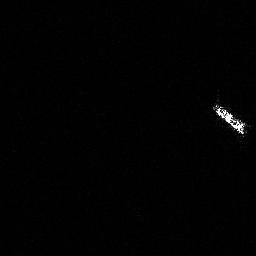ship: (209, 101, 251, 139)
